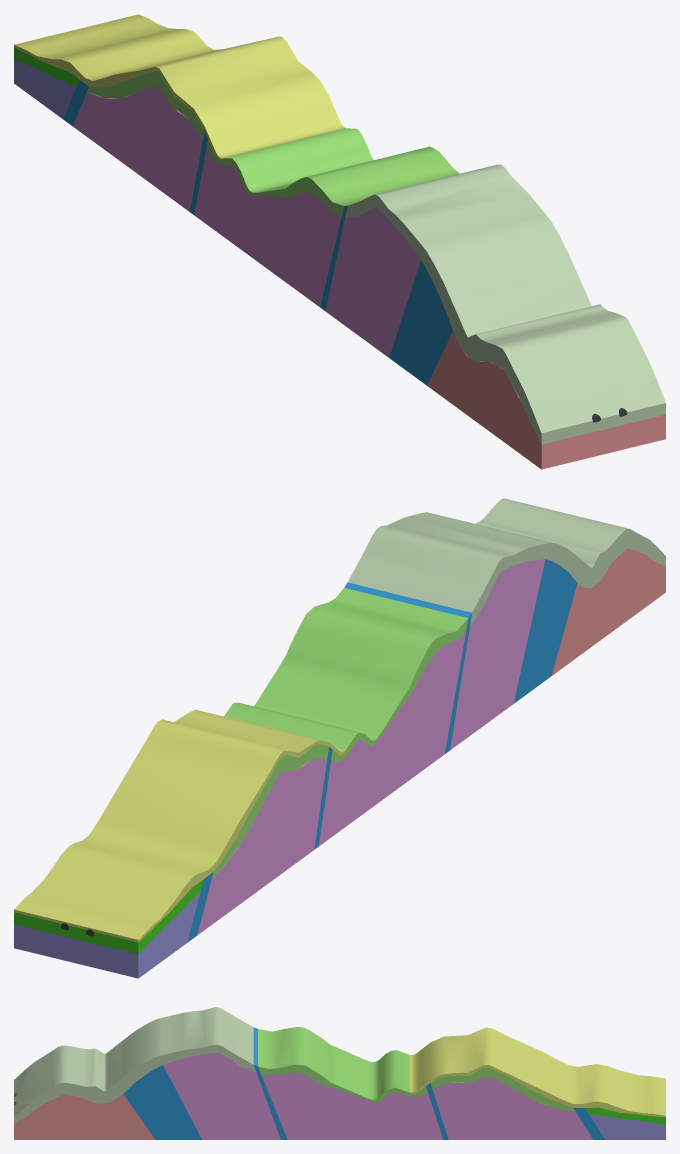
3 renders of one model, top to bottom at view 1: azimuth 30°, elevation 25°; view 2: azimuth 150°, elevation 25°; view 3: azimuth 270°, elevation 25°, orthographic. The views are drawn at different scales.
Visible parts, largest first — view 1: 3, 1, 6, 4, 0, fractures, 2, 5; view 2: 6, 1, 4, 3, fractures, 0, 2, 5; view 3: 1, 3, 6, 4, 0, fractures, 2, 5.
Part boxes in pixels (bbox=[...]): 3: bbox=[345, 164, 665, 444]; 1: bbox=[73, 85, 420, 357]; 6: bbox=[14, 14, 345, 159]; 4: bbox=[87, 71, 459, 215]; 0: bbox=[427, 331, 665, 469]; fractures: bbox=[63, 80, 452, 385]; 2: bbox=[14, 59, 76, 118]; 5: bbox=[14, 47, 78, 86]; 6: bbox=[14, 710, 345, 942]; 1: bbox=[197, 559, 545, 935]; 4: bbox=[211, 588, 468, 879]; 3: bbox=[348, 498, 665, 627]; fractures: bbox=[187, 559, 577, 942]; 0: bbox=[551, 549, 665, 675]; 2: bbox=[14, 891, 200, 978]; 5: bbox=[14, 879, 203, 954]; 1: bbox=[163, 1053, 592, 1139]; 3: bbox=[14, 1007, 256, 1124]; 6: bbox=[410, 1027, 665, 1117]; 4: bbox=[258, 1027, 575, 1111]; 0: bbox=[14, 1094, 155, 1139]; fractures: bbox=[123, 1027, 604, 1139]; 2: bbox=[589, 1114, 665, 1139]; 5: bbox=[585, 1107, 665, 1124].
Size of the model in its own units: 180 by 213 by 1321.
